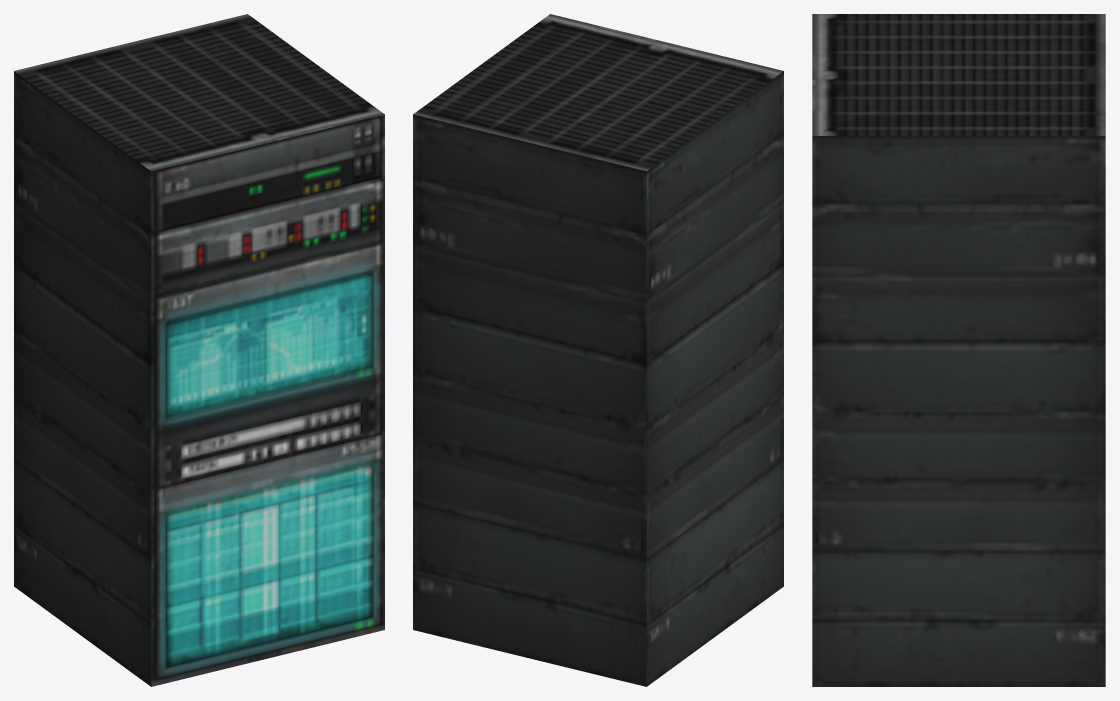
File: armario-internoPACK2-5.fbx
3 renders of one model, left to right at view 1: azimuth 30°, elevation 25°; view 2: azimuth 150°, elevation 25°; view 3: azimuth 270°, elevation 25°, orthographic. The views are drawn at different scales.
Parts seen in each view (by area): view 1: Cylinder; view 2: Cylinder; view 3: Cylinder.
Boxes of the visible parts, x1,y1,x2,y2 form: Cylinder: [14, 14, 384, 686]; Cylinder: [413, 14, 783, 686]; Cylinder: [812, 14, 1105, 686].
Size of the model in its own units: 0.975 by 2.06 by 0.992.
